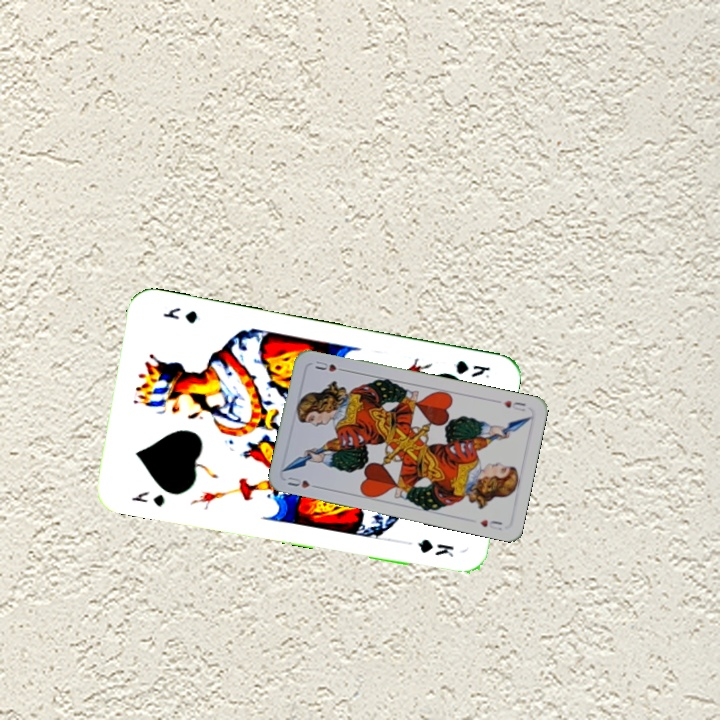GK: (449, 356, 493, 381), (127, 487, 167, 510)
HU: (284, 473, 322, 491), (499, 396, 528, 414)
